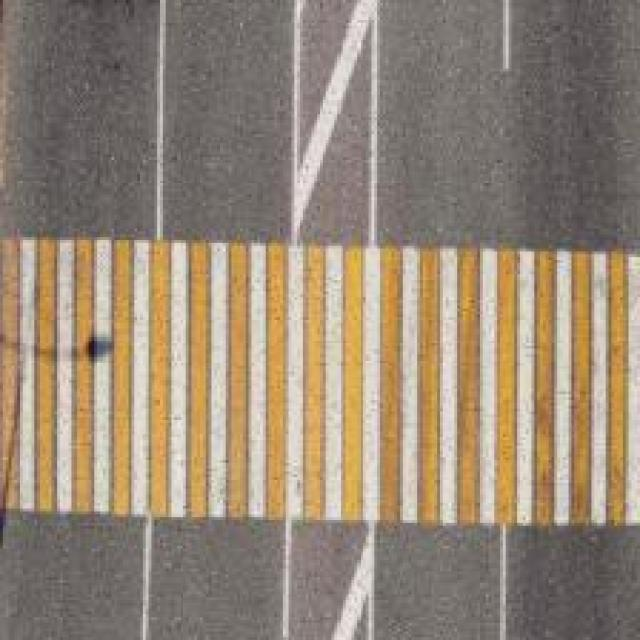walk-crossing: (0, 217, 640, 546)
